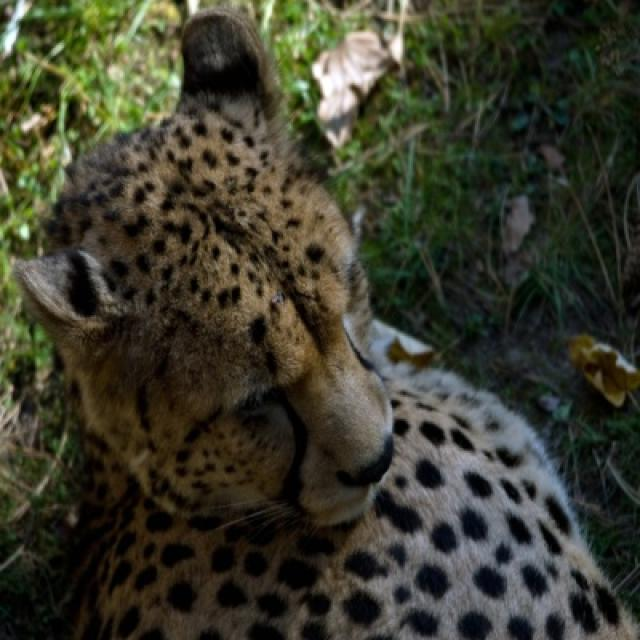Cheetah: (13, 11, 638, 638)
